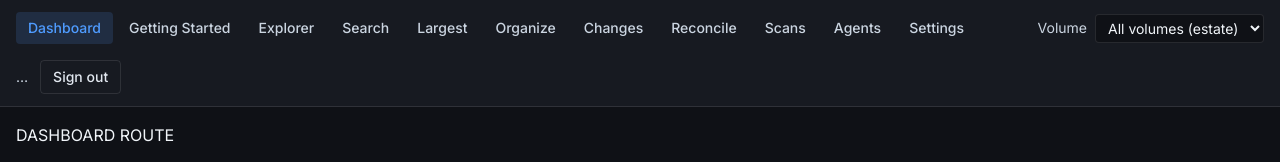
AppShell › mounts the clicked route in the outlet and moves aria-current to the active link
Expected: the text "DASHBOARD ROUTE" is shown, [16,125,174,145]
Click the link "Explorer" at [286, 28], box [258,19,314,36]
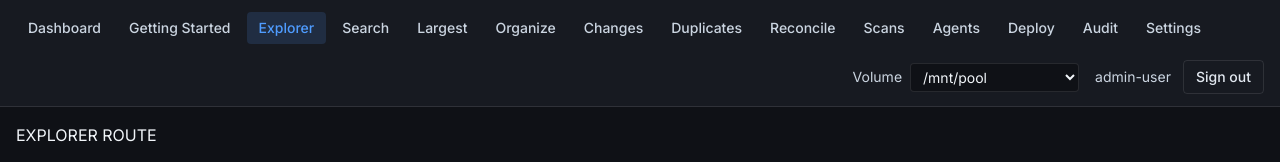
Now the text "EXPLORER ROUTE" is shown, box [16,125,157,145]
Now the text "DASHBOARD ROUTE" is gone
